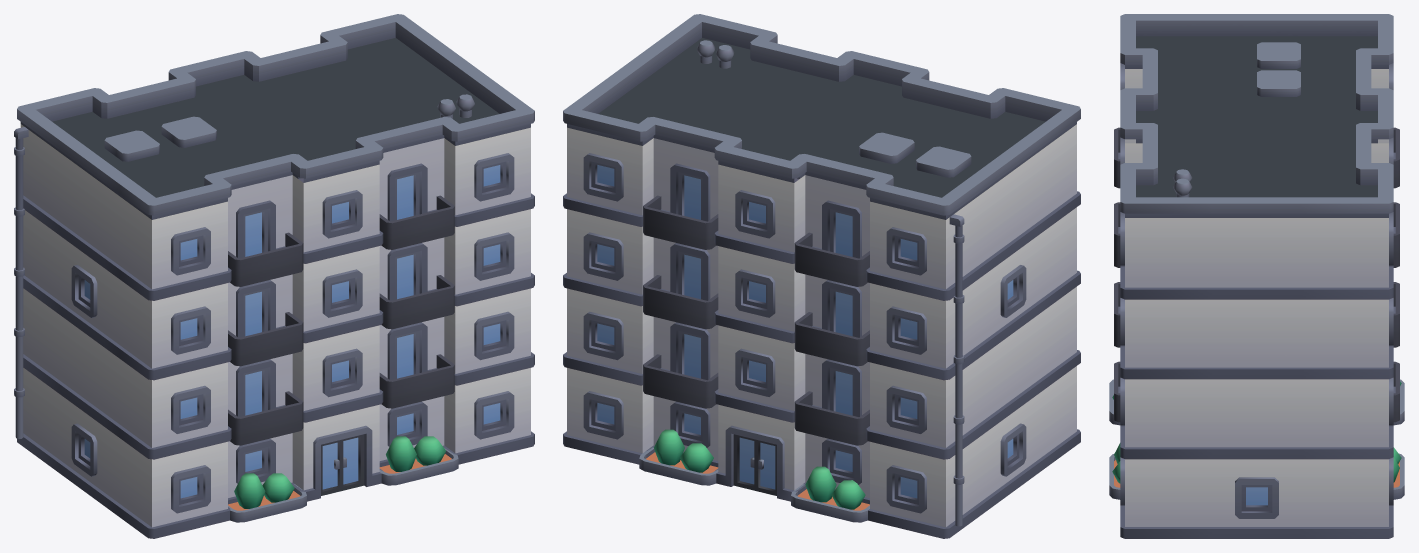
File: building-j.glb
The picture shows the model from 3 angles, left to right: view 1: azimuth 30°, elevation 25°; view 2: azimuth 150°, elevation 25°; view 3: azimuth 270°, elevation 25°; orthographic projection.
Parts seen in each view (by area): view 1: building-j; view 2: building-j; view 3: building-j.
Part boxes in pixels (x1,y1,x2,y2): building-j: (14, 14, 534, 538); building-j: (563, 14, 1080, 538); building-j: (1109, 14, 1404, 538).
Bounding box in the file's own units: 2.08 × 1.69 × 1.34.
1 material, 1 textured.
